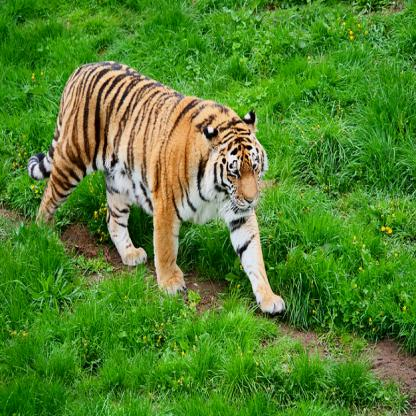cat: (26, 60, 286, 314)
